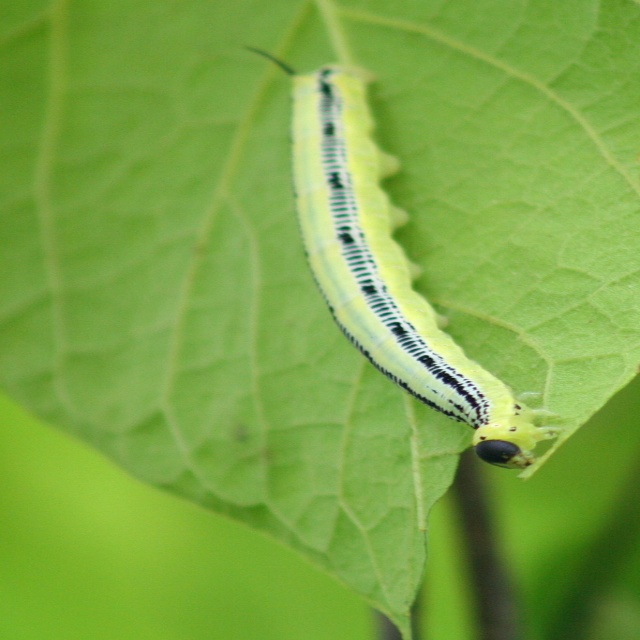Caterpillar: (240, 41, 567, 473)
